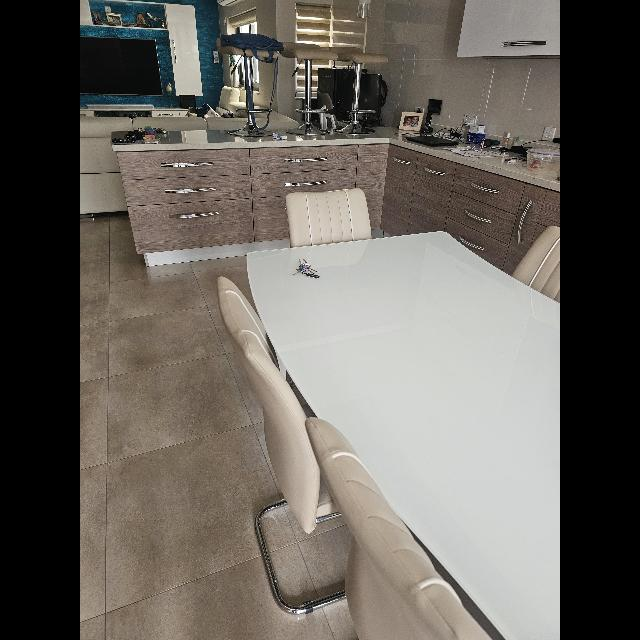Keys: (296, 260, 320, 278)
